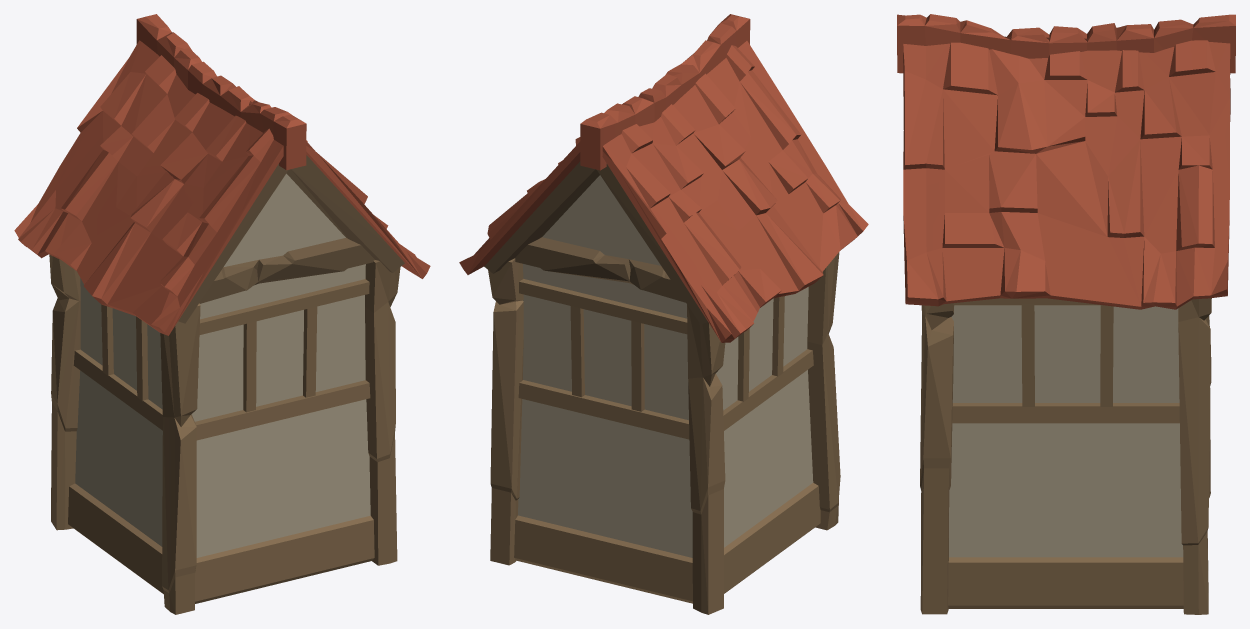
Rendered from SM_Bld_House_RoomTall_06.gltf.
3 renders of one model, left to right at view 1: azimuth 30°, elevation 25°; view 2: azimuth 150°, elevation 25°; view 3: azimuth 270°, elevation 25°, orthographic. The views are drawn at different scales.
Visible parts, largest first — view 1: SM_Bld_House_RoomTall_06; view 2: SM_Bld_House_RoomTall_06; view 3: SM_Bld_House_RoomTall_06.
Part boxes in pixels (box(x1,y1,x2,y2)): SM_Bld_House_RoomTall_06: box(14, 14, 430, 614); SM_Bld_House_RoomTall_06: box(459, 14, 868, 614); SM_Bld_House_RoomTall_06: box(897, 14, 1235, 614).
Bounding box in the file's own units: 3.6 × 5.69 × 3.26.
Materials: 1 (1 with a texture image).
